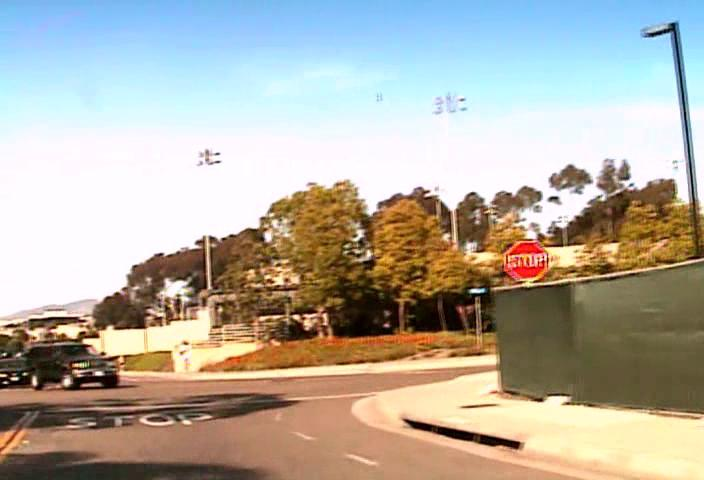stop: (503, 240, 549, 280)
